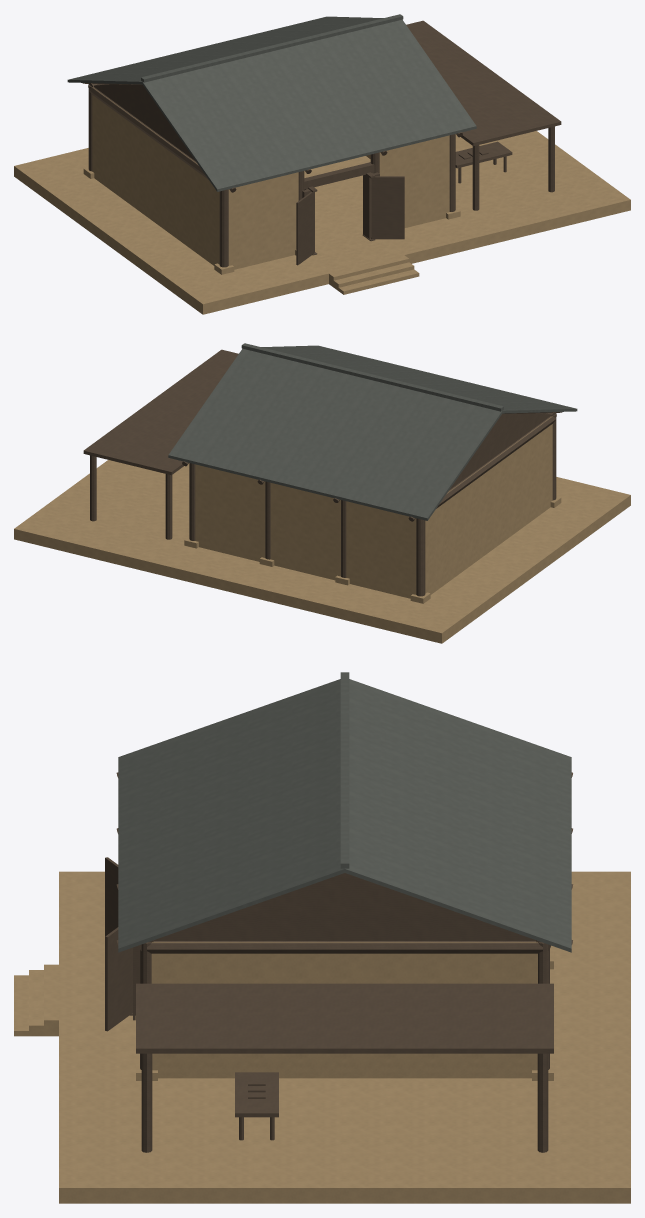
The model's file is wuku-B-LOD1.glb.
3 renders of one model, top to bottom at view 1: azimuth 30°, elevation 25°; view 2: azimuth 150°, elevation 25°; view 3: azimuth 270°, elevation 25°, orthographic. The views are drawn at different scales.
Visible parts, largest first — view 1: wuku-B-static_earth, wuku-B-static_tile, wuku-B-static_timber; view 2: wuku-B-static_earth, wuku-B-static_tile, wuku-B-static_timber; view 3: wuku-B-static_earth, wuku-B-static_tile, wuku-B-static_timber.
Boxes of the visible parts, box(x1,y1,x2,y2) form: wuku-B-static_earth: box(14, 87, 630, 314); wuku-B-static_tile: box(67, 14, 476, 191); wuku-B-static_timber: box(82, 20, 561, 267); wuku-B-static_earth: box(14, 416, 630, 643); wuku-B-static_tile: box(168, 343, 577, 520); wuku-B-static_timber: box(83, 349, 562, 596); wuku-B-static_earth: box(14, 871, 630, 1203); wuku-B-static_tile: box(118, 672, 571, 952); wuku-B-static_timber: box(105, 772, 573, 1152).
Bounding box in the file's own units: 17 × 6.03 × 14.02.
3 materials, 3 textured.
